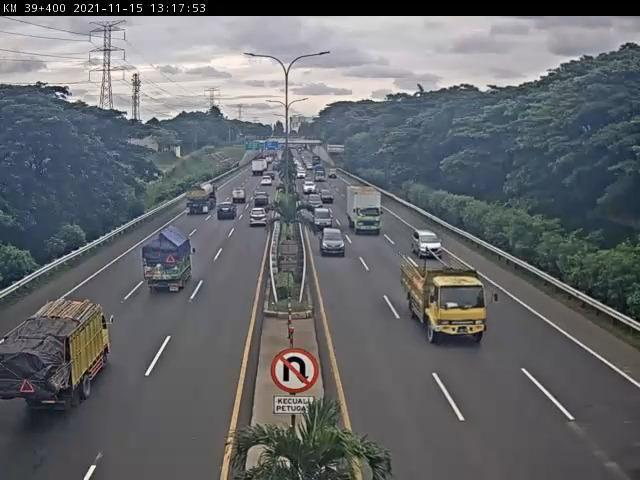car: (417, 232, 441, 255), (324, 230, 346, 254), (249, 207, 270, 229), (217, 201, 238, 222), (313, 210, 333, 229), (250, 197, 270, 215), (308, 195, 324, 211), (231, 188, 248, 203)
truck: (3, 298, 115, 406), (400, 262, 491, 348), (143, 224, 196, 291), (347, 188, 384, 235), (188, 180, 219, 215)
